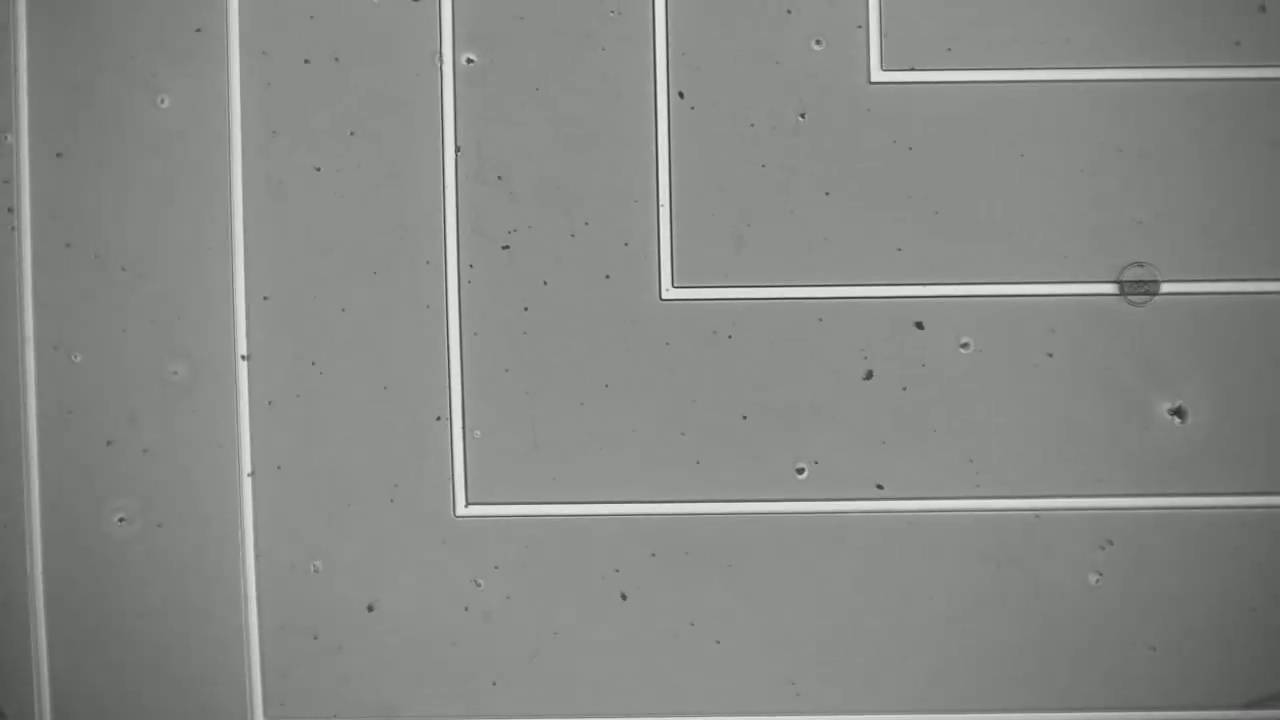gray_line: (1105, 272, 1173, 304)
